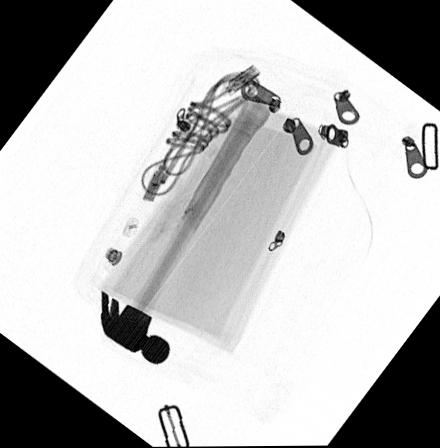Hammer: (100, 91, 270, 364)
